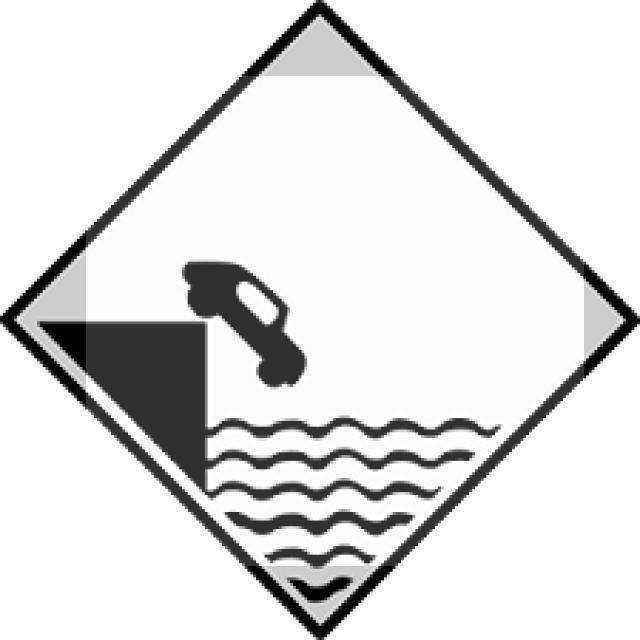quay side or river bank: (38, 78, 585, 617)
